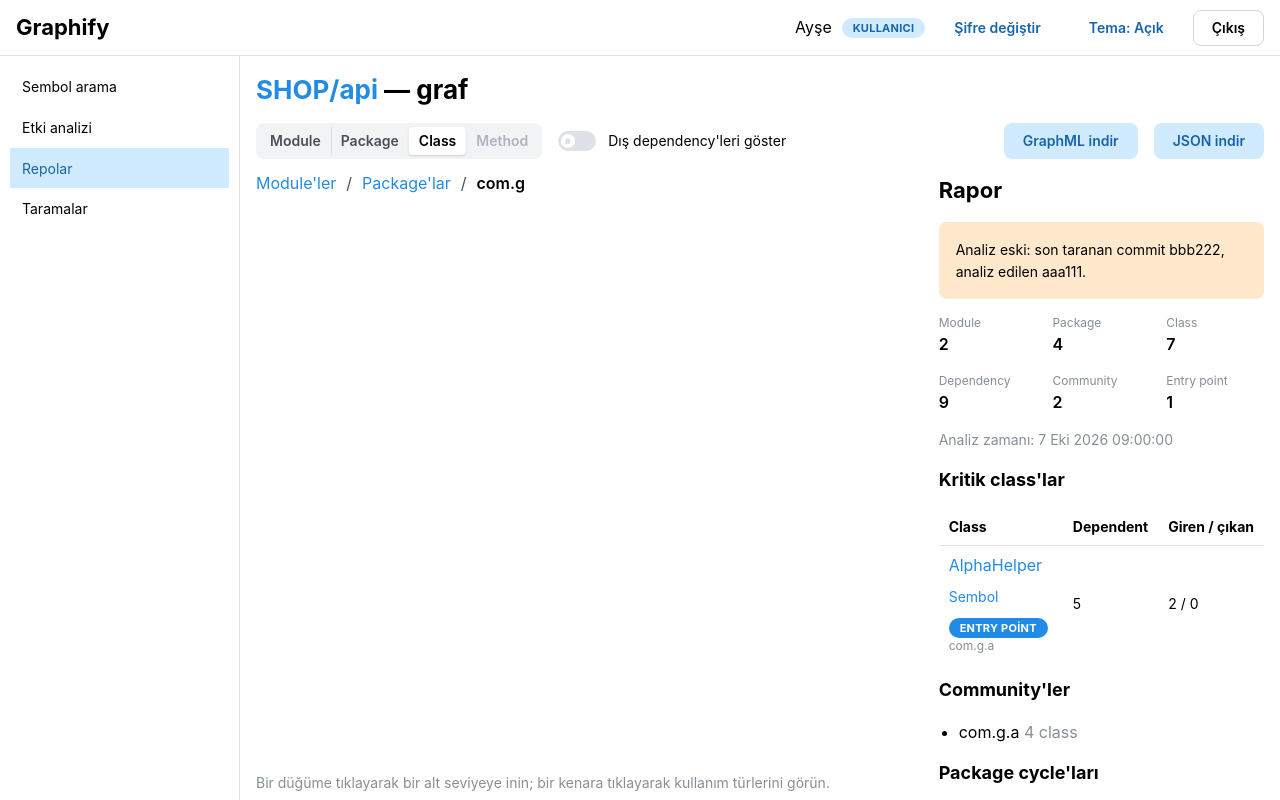
Test: repository graph report › a rejected export shows the backend message
Click the button "JSON indir". click: (1209, 141)
box: [1154,123,1264,159]
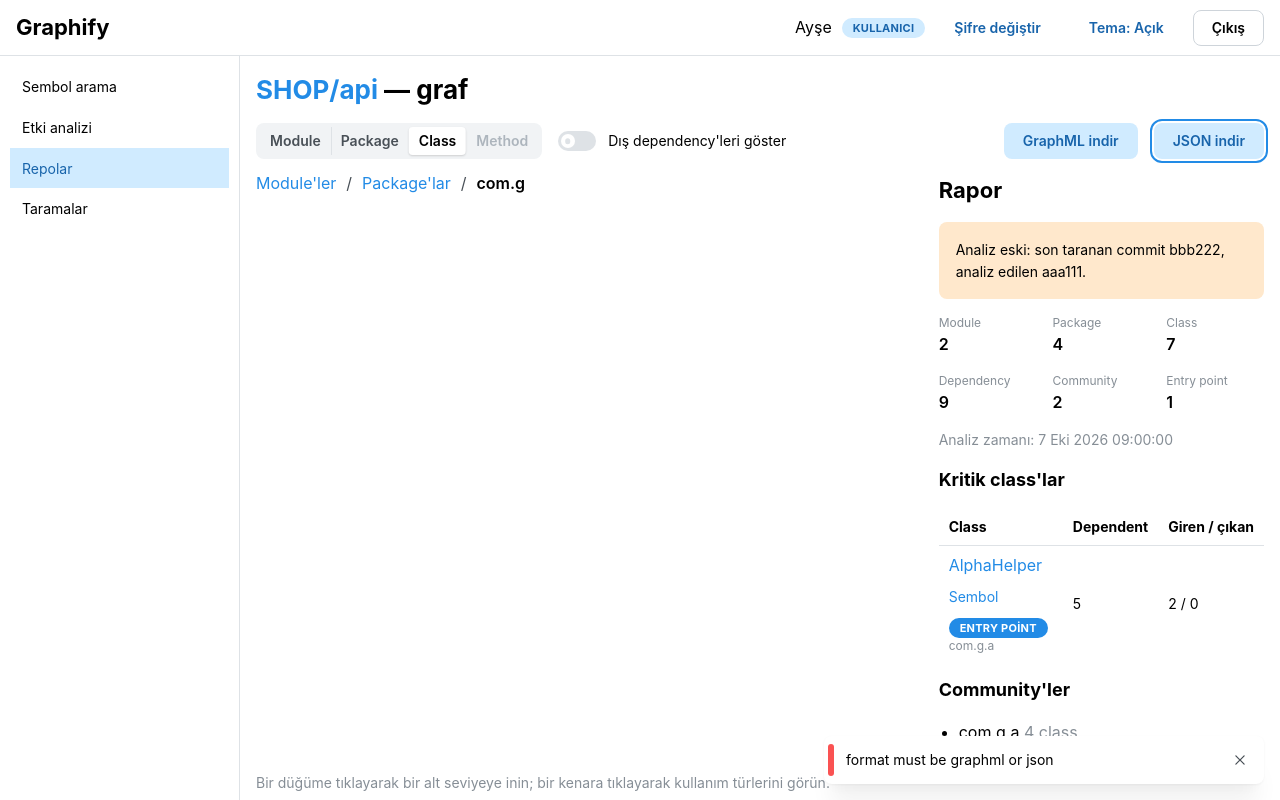
Check: the text "format must be graphml or json" is shown, box [846,751,1054,768]
